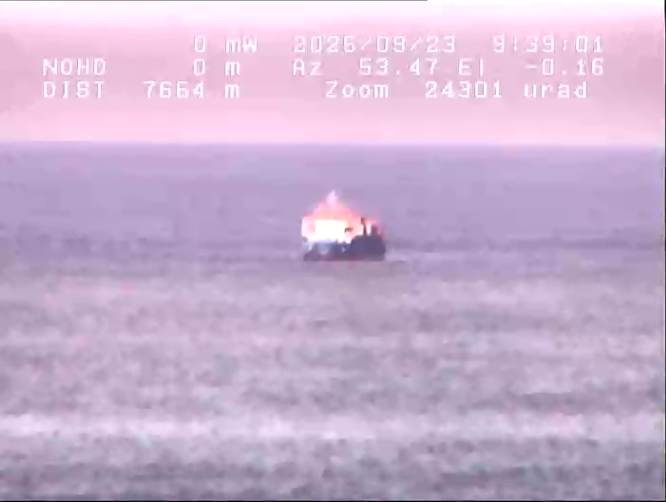TANKER: (268, 174, 403, 280)
